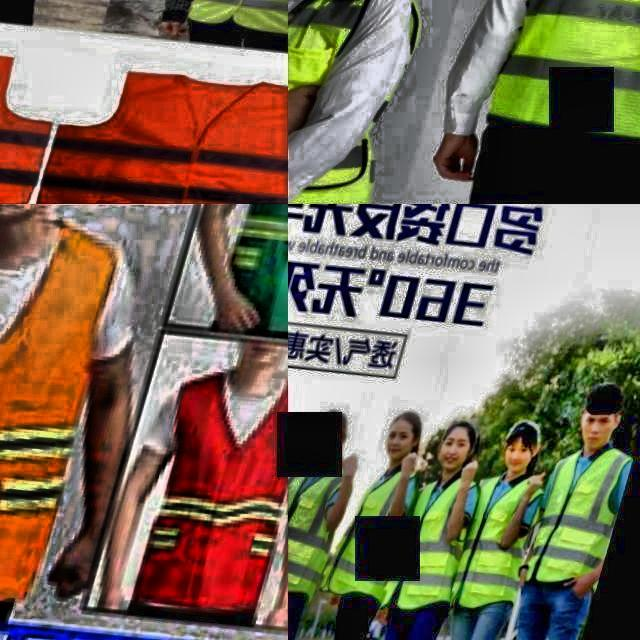safety_jacket: (0, 204, 141, 621), (126, 363, 288, 638), (288, 0, 410, 204), (493, 0, 640, 157), (544, 466, 638, 592), (211, 204, 288, 357), (468, 487, 556, 612), (402, 486, 484, 620), (346, 476, 422, 602), (288, 475, 360, 598), (184, 0, 288, 54)
